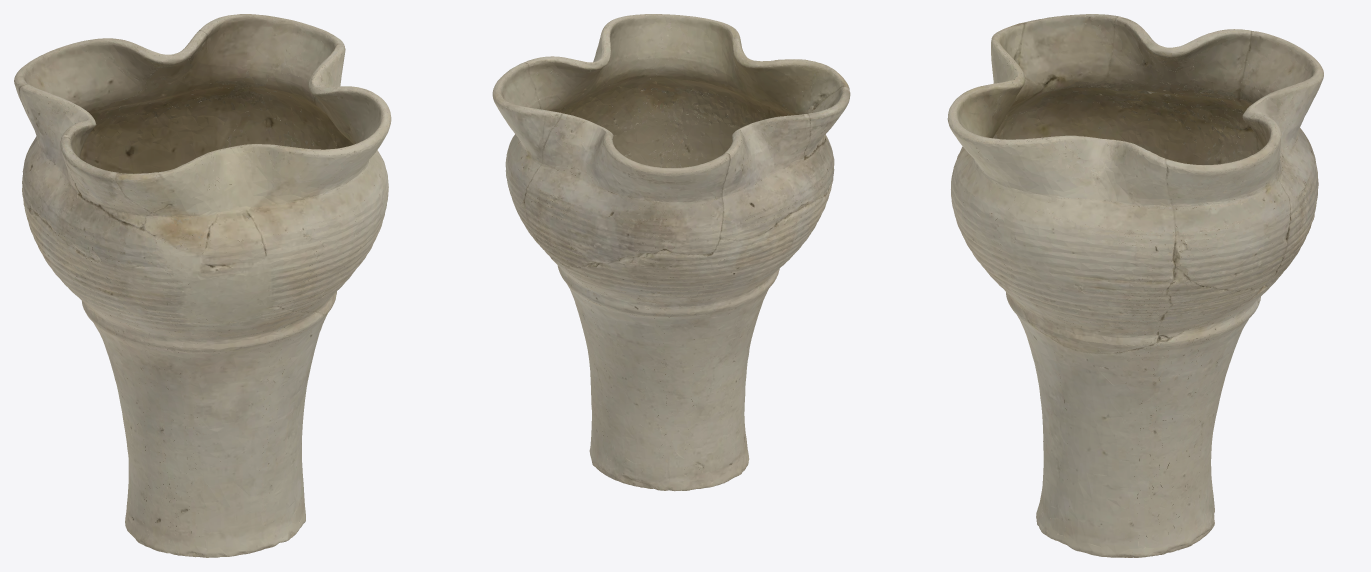
The model's file is preview.glb.
3 views of the same model, side by side, from view 1: azimuth 30°, elevation 25°; view 2: azimuth 150°, elevation 25°; view 3: azimuth 270°, elevation 25° (orthographic). The views are drawn at different scales.
Parts seen in each view (by area): view 1: Stereo textured mesh_Material1_0, Stereo textured mesh_Material0_0; view 2: Stereo textured mesh_Material0_0, Stereo textured mesh_Material1_0; view 3: Stereo textured mesh_Material1_0, Stereo textured mesh_Material0_0.
Part boxes in pixels (x1,y1,x2,y2): Stereo textured mesh_Material1_0: [14, 14, 391, 557]; Stereo textured mesh_Material0_0: [14, 14, 390, 557]; Stereo textured mesh_Material0_0: [492, 14, 849, 490]; Stereo textured mesh_Material1_0: [492, 14, 850, 491]; Stereo textured mesh_Material1_0: [947, 14, 1323, 557]; Stereo textured mesh_Material0_0: [948, 14, 1321, 557].
Size of the model in its own units: 762 by 858 by 700.
Materials: 2 (2 with a texture image).
